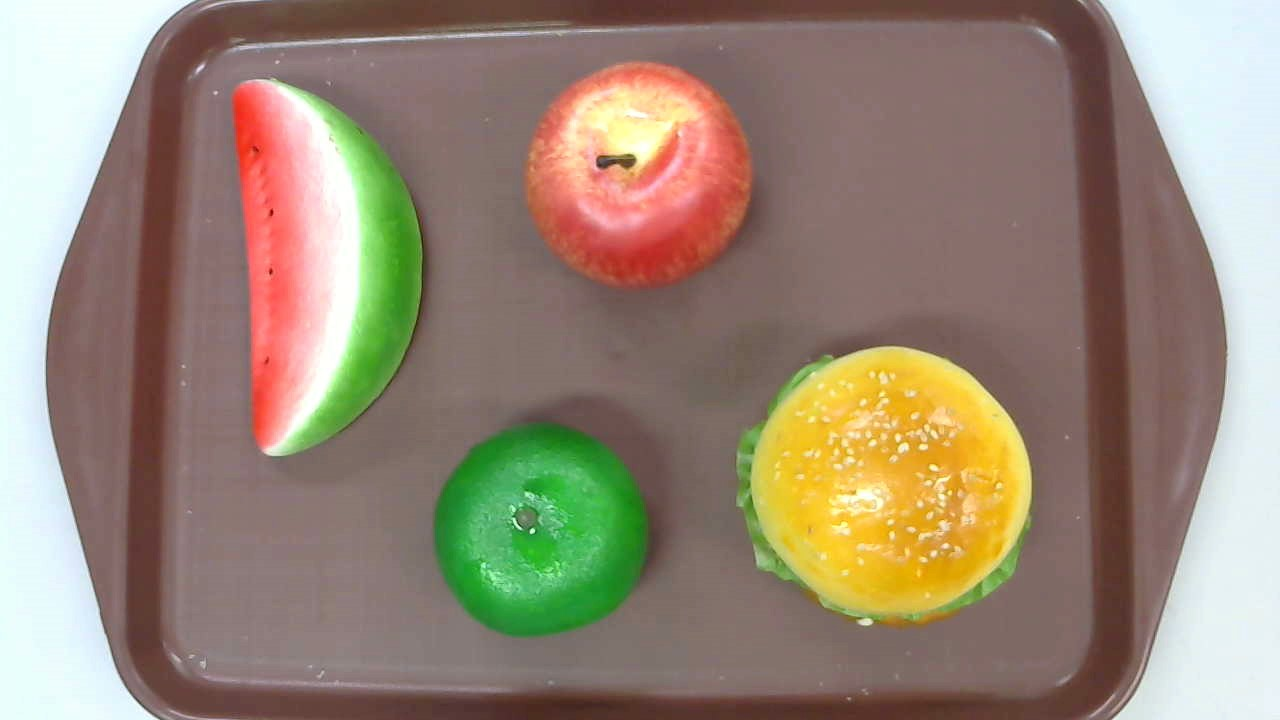green orange: (434, 422, 649, 638)
hamburger: (734, 344, 1034, 628)
red apple: (524, 60, 752, 291)
water melon: (230, 78, 422, 456)
